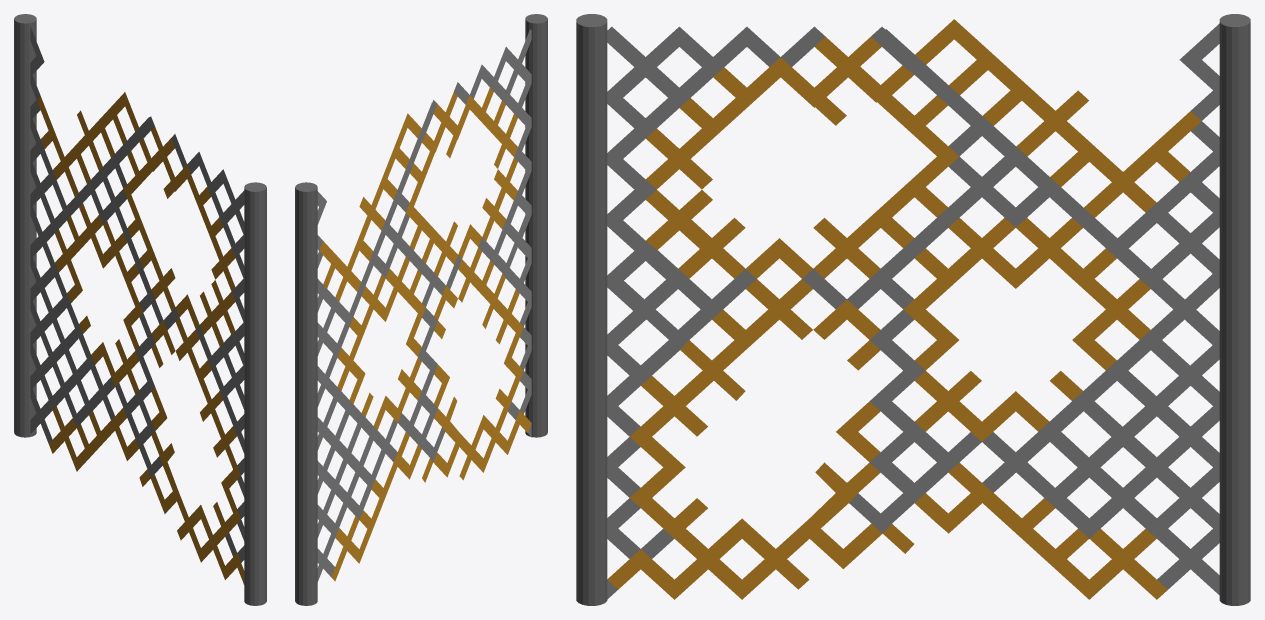
File: fence4.glb
3 views of the same model, side by side, from view 1: azimuth 30°, elevation 25°; view 2: azimuth 150°, elevation 25°; view 3: azimuth 270°, elevation 25° (orthographic). The views are drawn at different scales.
Visible parts, largest first — view 1: Grid.004; view 2: Grid.004; view 3: Grid.004.
Boxes of the visible parts, x1,y1,x2,y2 form: Grid.004: (14, 14, 266, 605); Grid.004: (295, 14, 547, 605); Grid.004: (576, 14, 1250, 605).
Bounding box in the file's own units: 0.2205 × 4.55 × 4.78.
1 material, 1 textured.
